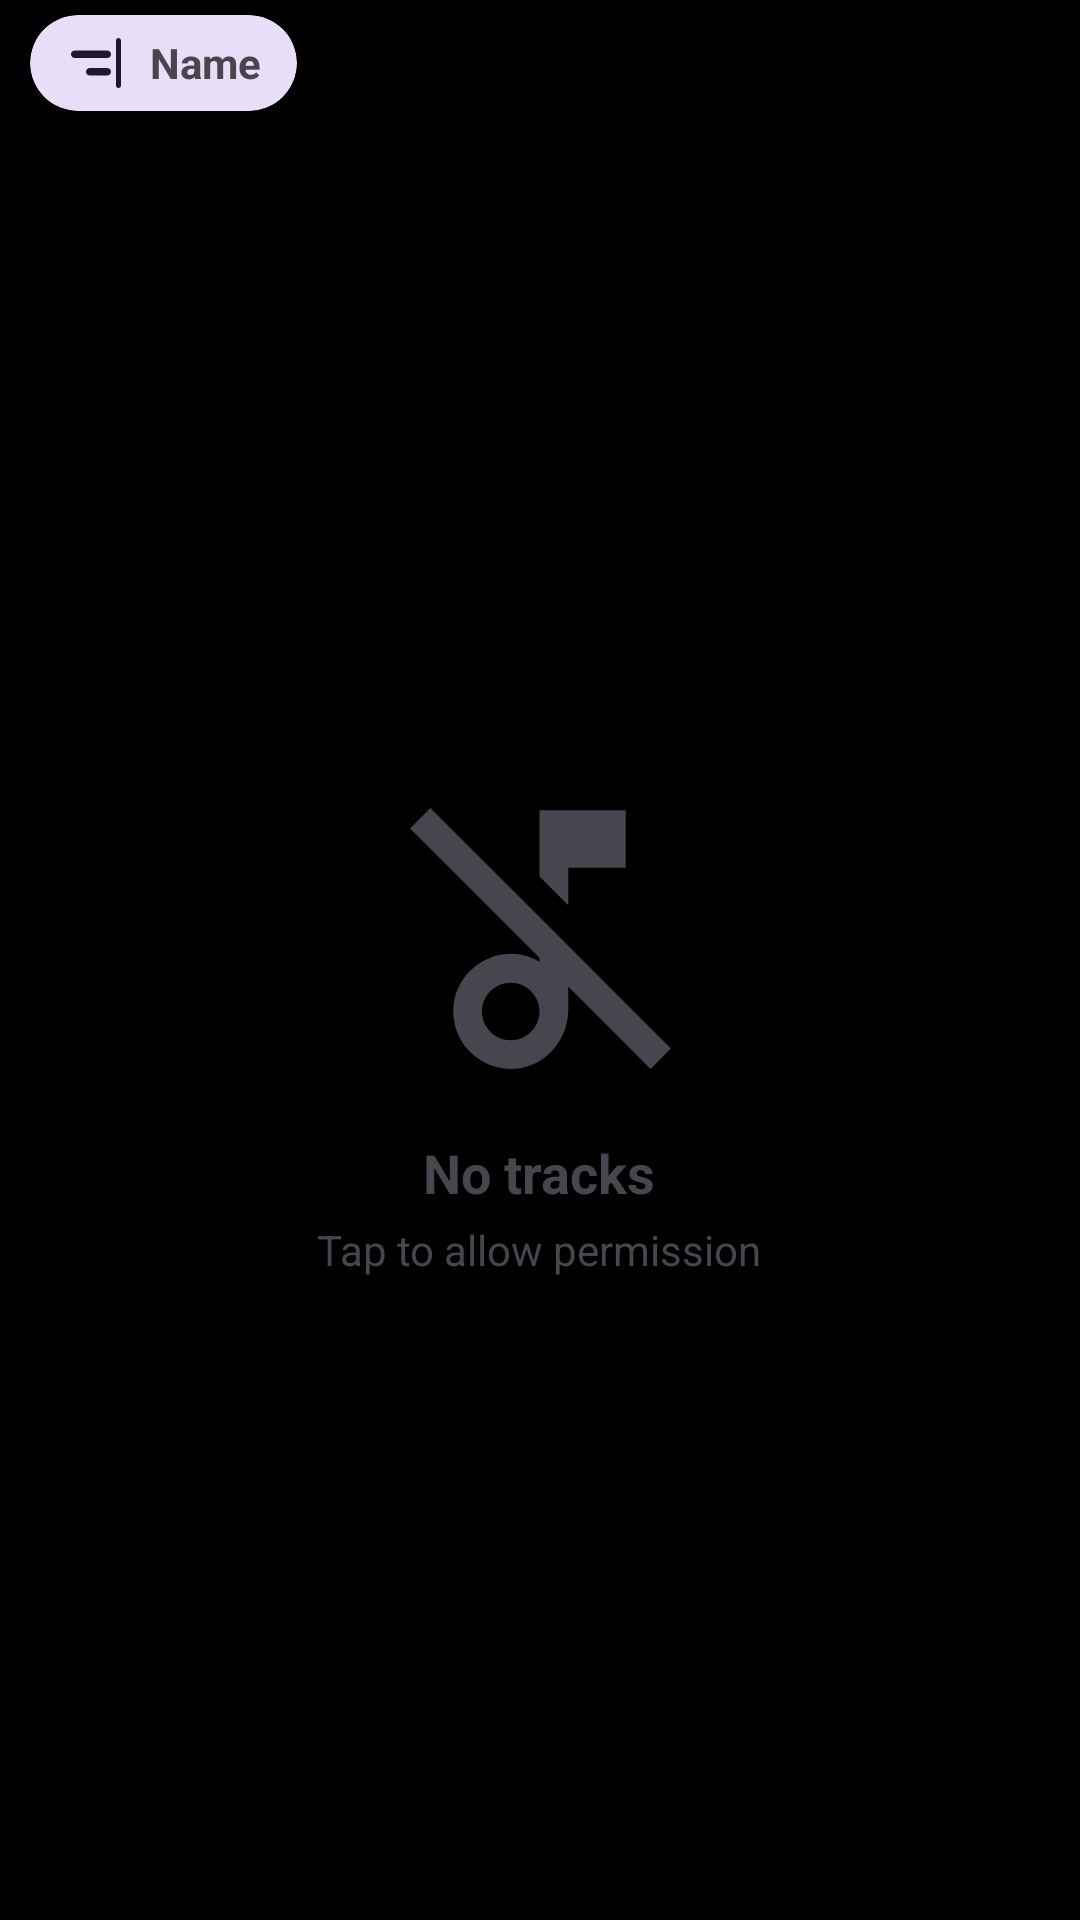

Named icons in this screenshot (1080 × 1920) and their bounding boxes, box(x1, y1, x2, y2):
align: box(71, 38, 121, 88)
music: box(410, 808, 671, 1069)
